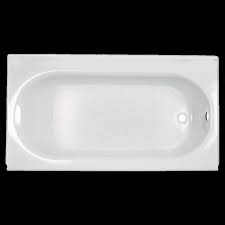bathub: (4, 46, 220, 175)
